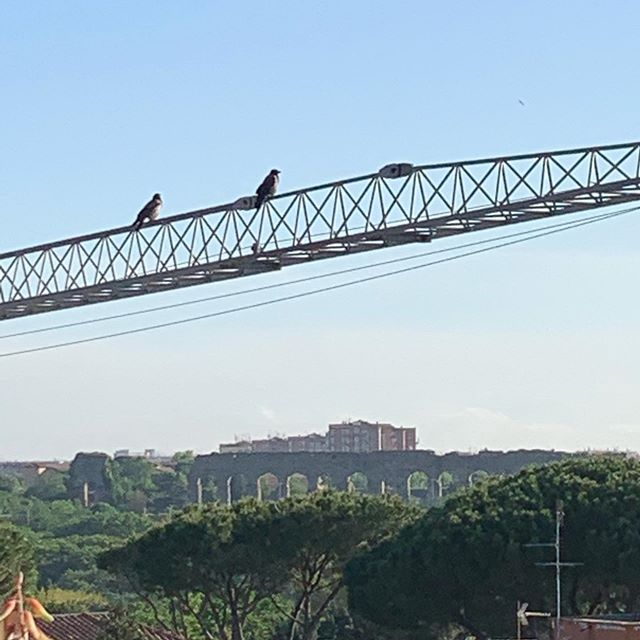animal: (255, 166, 289, 213), (134, 190, 172, 225)
sky: (1, 1, 628, 454)
tree: (358, 457, 640, 632), (108, 485, 408, 628)
